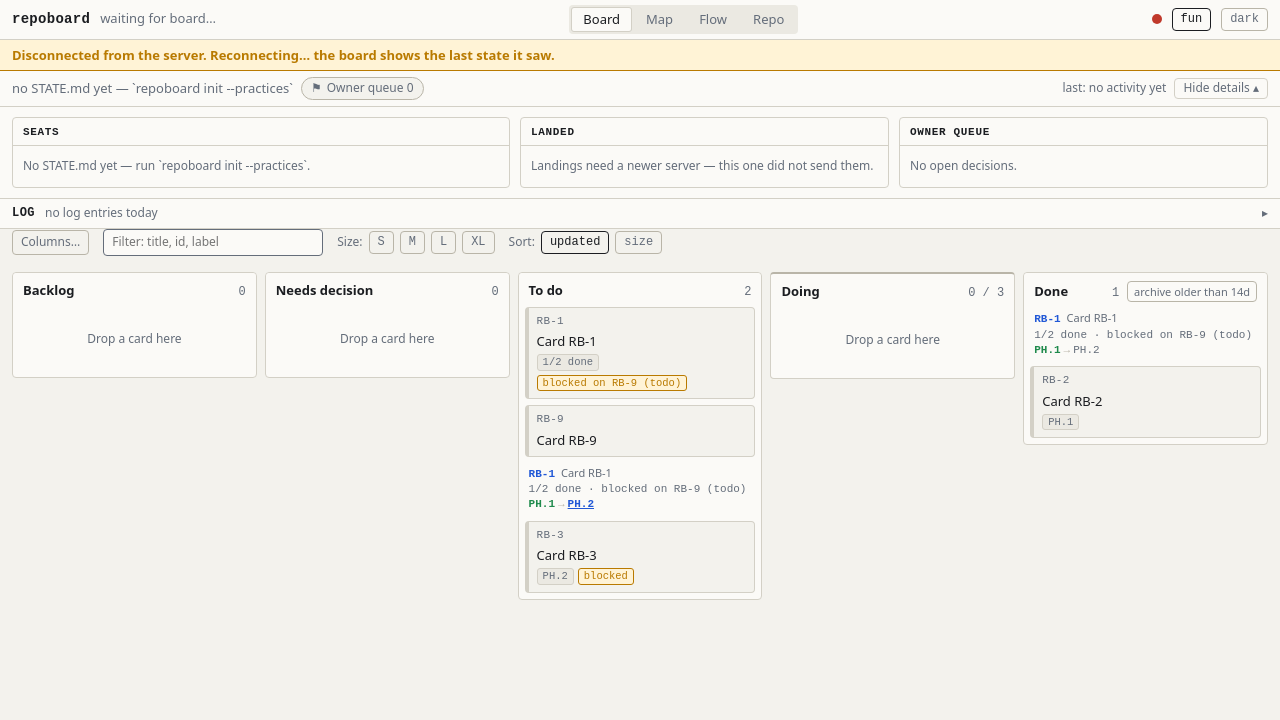
Test: Drawer: Phase block (RCB-68) › on a phase card: the steps list, one row per step with id/phase/status/blocked
The image size is (1280, 720).
Click the 1st button titled "Open RB-1" at (550, 321), box [537,314,564,329]
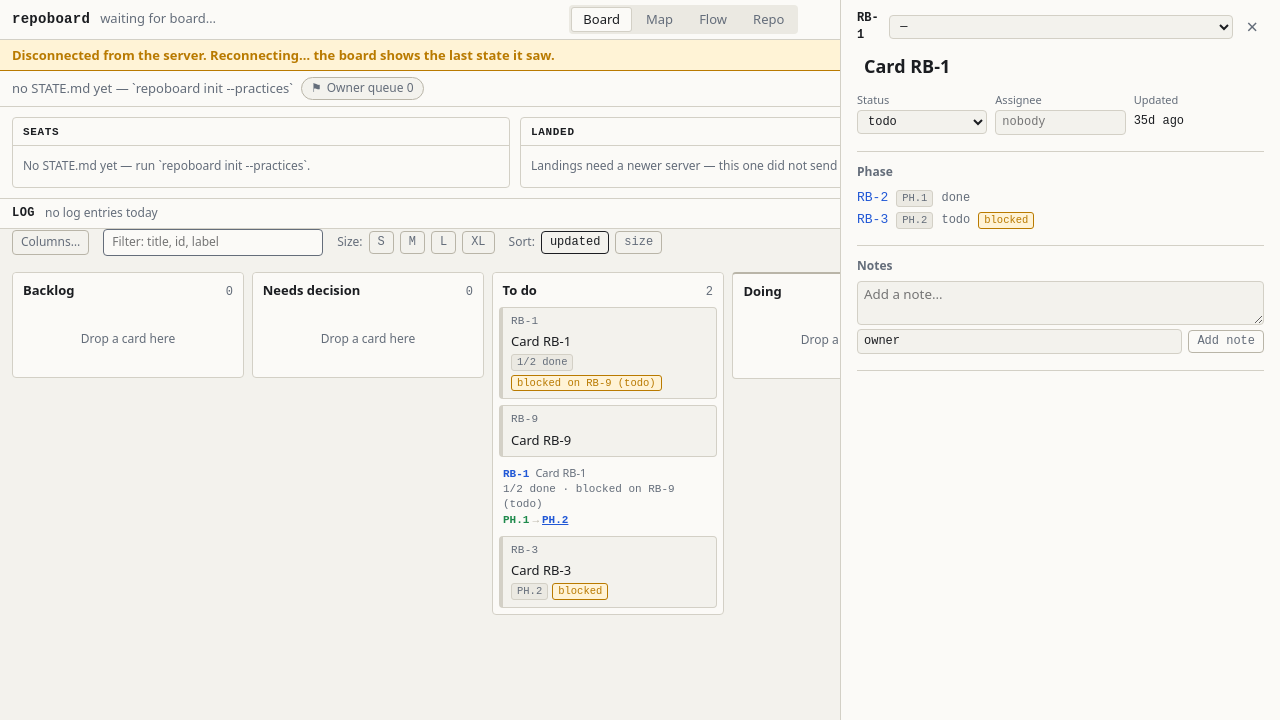
expect the list item with test id "phase-step-RB-2" shows "RB-2": met, box [857,189,888,207]
expect the list item with test id "phase-step-RB-2" shows "PH.1": met, box [902,192,927,204]
expect the list item with test id "phase-step-RB-2" shows "done": met, box [941,191,970,205]
